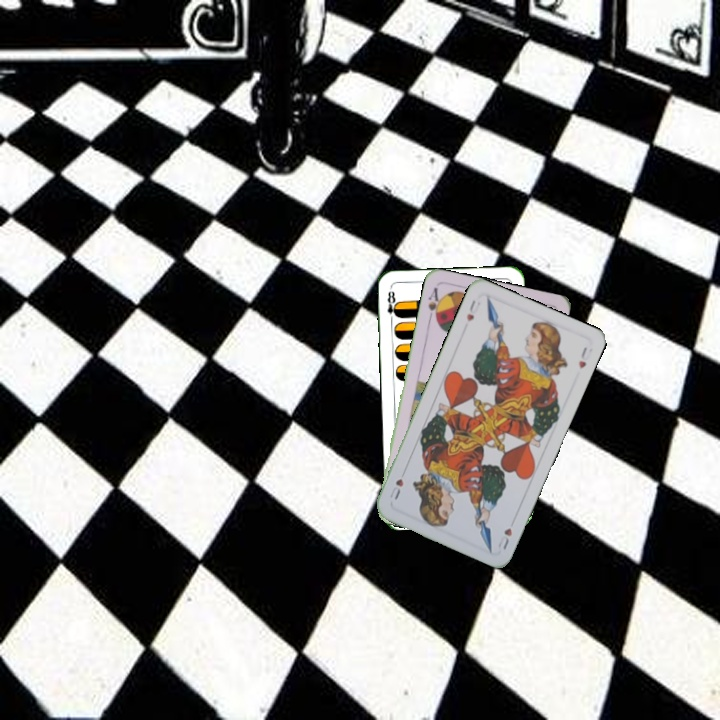E8: (383, 285, 400, 325)
HU: (462, 296, 483, 325), (494, 524, 515, 553)
SA: (424, 283, 444, 324)
